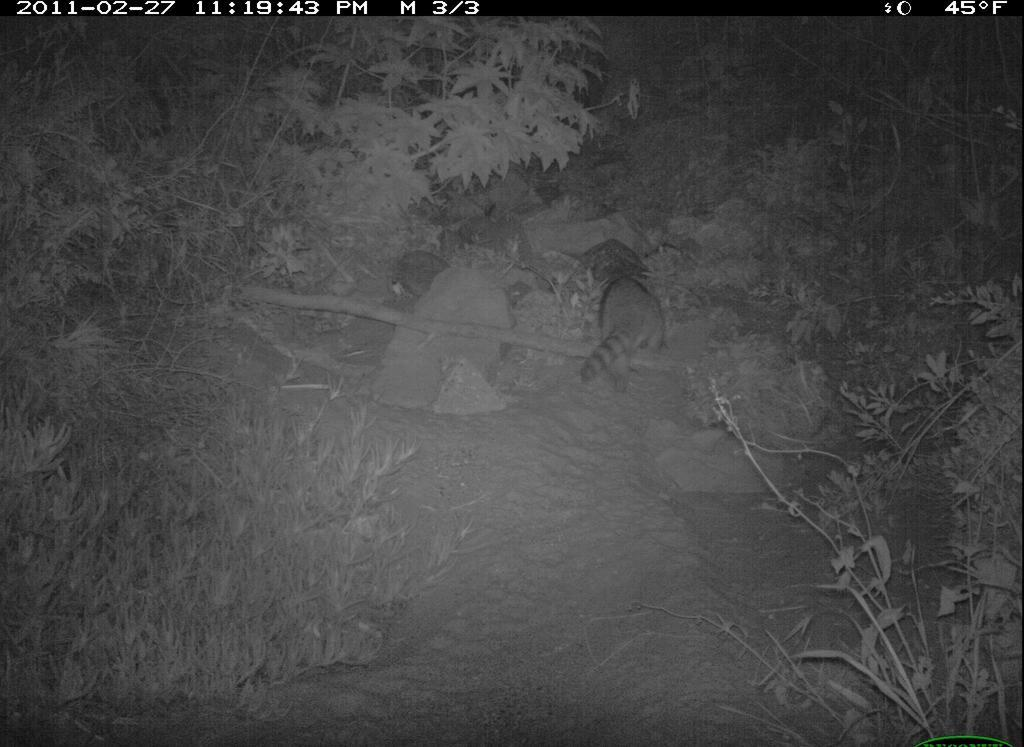raccoon: (577, 258, 679, 400)
